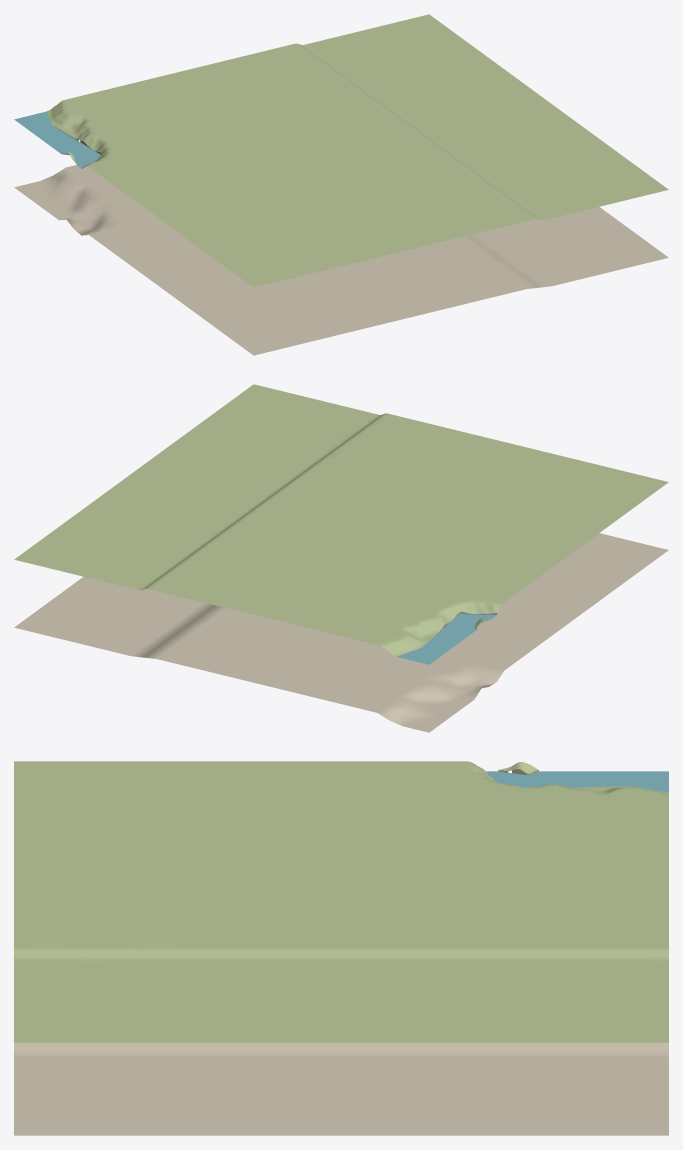
3 renders of one model, top to bottom at view 1: azimuth 30°, elevation 25°; view 2: azimuth 150°, elevation 25°; view 3: azimuth 270°, elevation 25°, orthographic. The views are drawn at different scales.
Visible parts, largest first — view 1: s_4_0__grass, s_4_0__soil, s_4_0__water; view 2: s_4_0__grass, s_4_0__soil, s_4_0__water; view 3: s_4_0__grass, s_4_0__soil, s_4_0__water.
Boxes of the visible parts, x1,y1,x2,y2 form: s_4_0__grass: (46, 14, 668, 287); s_4_0__soil: (14, 165, 668, 355); s_4_0__water: (14, 111, 100, 168); s_4_0__grass: (14, 384, 668, 656); s_4_0__soil: (14, 533, 668, 732); s_4_0__water: (397, 614, 496, 664); s_4_0__grass: (14, 761, 668, 1042); s_4_0__soil: (14, 1042, 668, 1135); s_4_0__water: (486, 771, 668, 792).
Size of the model in its own units: 128 by 22.14 by 128.
